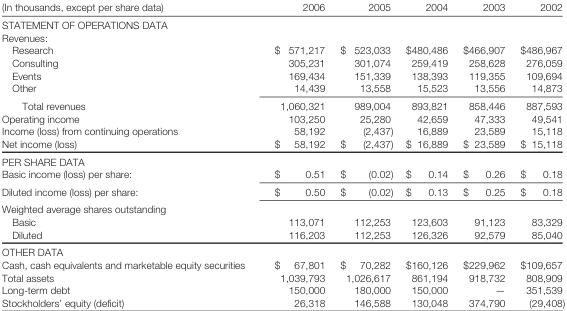table: (1, 0, 564, 308)
table column: (1, 0, 258, 308), (258, 0, 331, 308), (331, 0, 398, 308), (454, 0, 511, 308), (398, 0, 454, 308), (511, 0, 564, 308)
table column header: (1, 0, 564, 15)
table projected row header: (1, 151, 564, 167), (1, 15, 564, 30), (1, 199, 564, 214), (1, 242, 564, 257), (1, 30, 564, 43)
table row: (1, 182, 564, 199), (1, 151, 564, 167), (1, 0, 564, 15), (1, 15, 564, 30), (1, 81, 564, 96), (1, 96, 564, 111), (1, 136, 564, 151), (1, 167, 564, 182), (1, 199, 564, 214), (1, 227, 564, 242), (1, 242, 564, 257), (1, 30, 564, 43), (1, 55, 564, 68), (1, 68, 564, 81), (1, 111, 564, 124), (1, 214, 564, 227), (1, 257, 564, 270), (1, 270, 564, 283), (1, 295, 564, 308), (1, 43, 564, 55), (1, 124, 564, 136), (1, 283, 564, 295)
